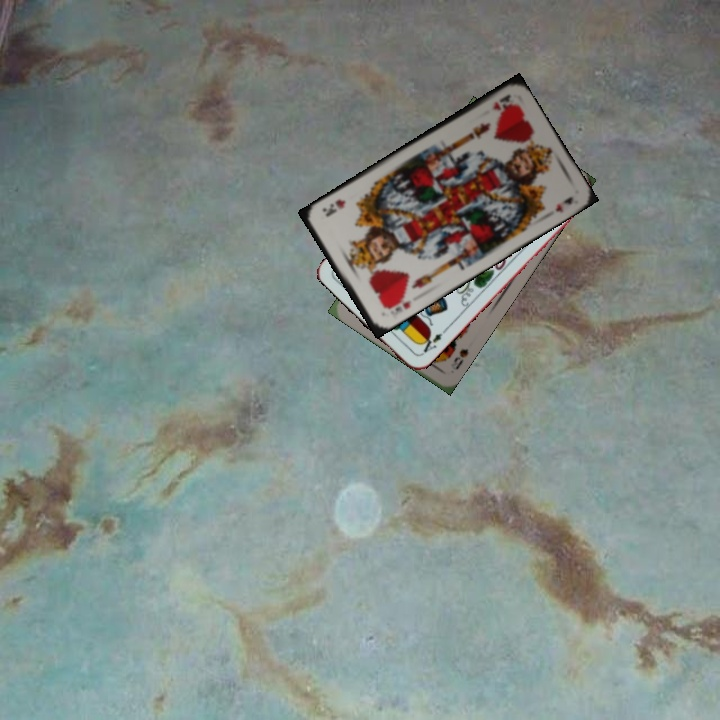EA: (416, 329, 445, 358)
HK: (380, 292, 414, 314), (489, 90, 514, 113)
S8: (447, 345, 471, 373)
